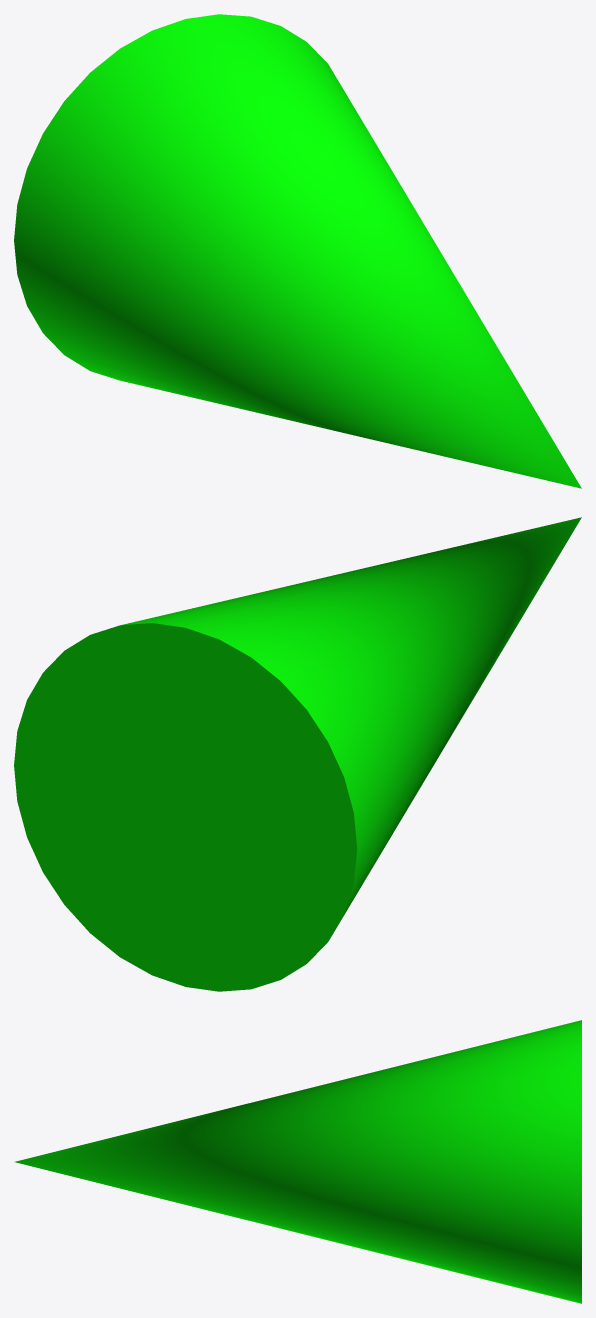
The model's file is green_cone.obj.
3 views of the same model, one above another, from view 1: azimuth 30°, elevation 25°; view 2: azimuth 150°, elevation 25°; view 3: azimuth 270°, elevation 25° (orthographic). The views are drawn at different scales.
Bounding box in the file's own units: 0.2 × 0.2 × 0.4.
